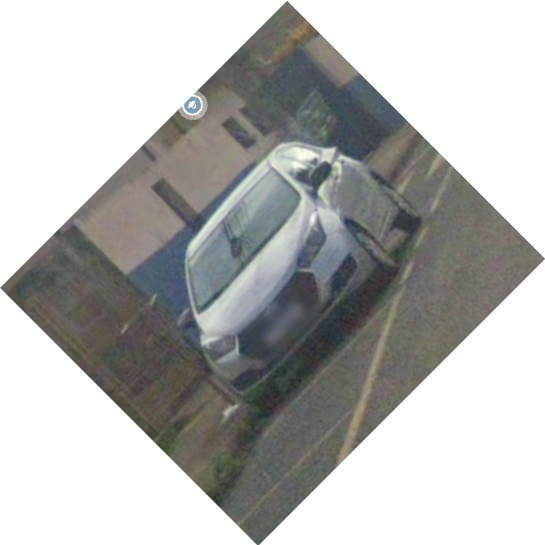car: (173, 130, 425, 419)
